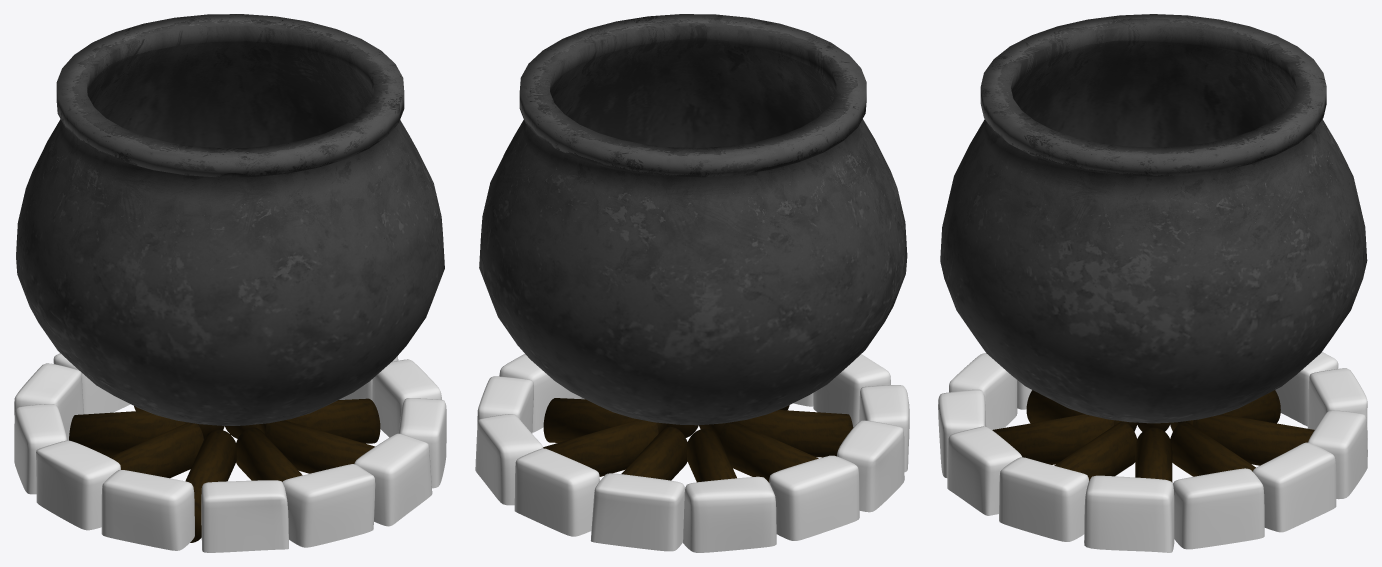
Rendered from Cauldron.fbx.
The picture shows the model from 3 angles, left to right: view 1: azimuth 30°, elevation 25°; view 2: azimuth 150°, elevation 25°; view 3: azimuth 270°, elevation 25°; orthographic projection.
Visible parts, largest first — view 1: Cauldron, Bricks, Logs; view 2: Cauldron, Bricks, Logs; view 3: Cauldron, Bricks, Logs.
Boxes of the visible parts, box(x1,y1,x2,y2) form: Cauldron: box(16, 14, 444, 425); Bricks: box(14, 353, 446, 552); Logs: box(69, 398, 380, 542); Cauldron: box(479, 14, 907, 425); Bricks: box(475, 354, 909, 552); Logs: box(543, 398, 853, 482); Cauldron: box(940, 14, 1367, 423); Bricks: box(938, 352, 1367, 552); Logs: box(992, 390, 1314, 482).
Bounding box in the file's own units: 20.82 × 20.35 × 20.51.
